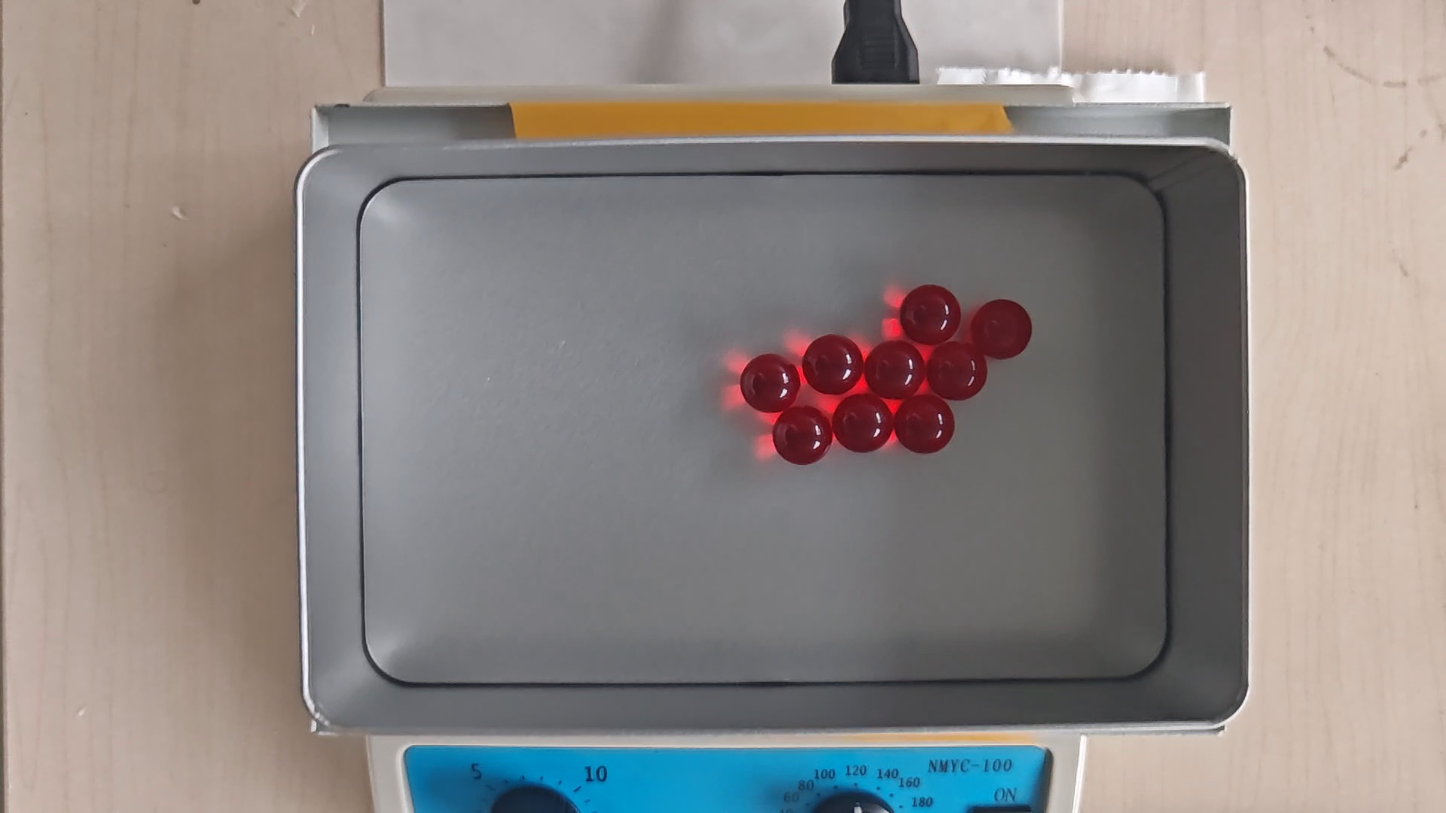ball: (833, 393, 894, 454), (972, 298, 1032, 360), (803, 333, 863, 395), (900, 284, 960, 345), (865, 340, 925, 400), (896, 396, 956, 455), (773, 405, 831, 466), (741, 353, 798, 413), (928, 343, 988, 400)
container: (357, 172, 1168, 680)
